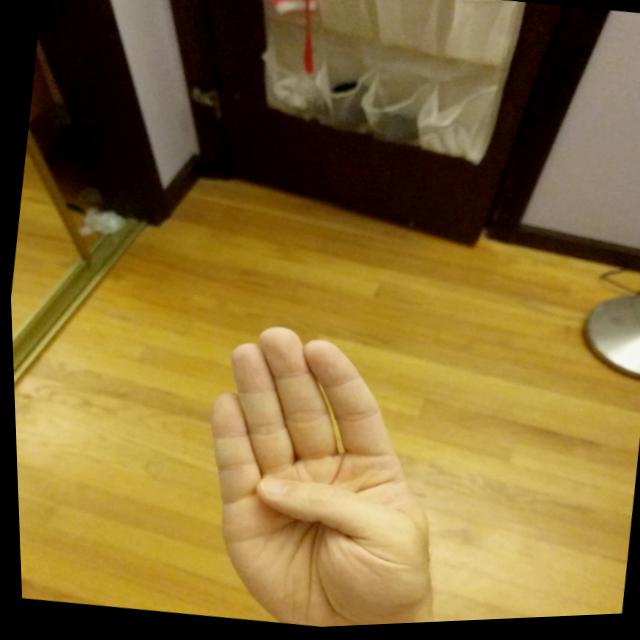B: (165, 308, 486, 634)
